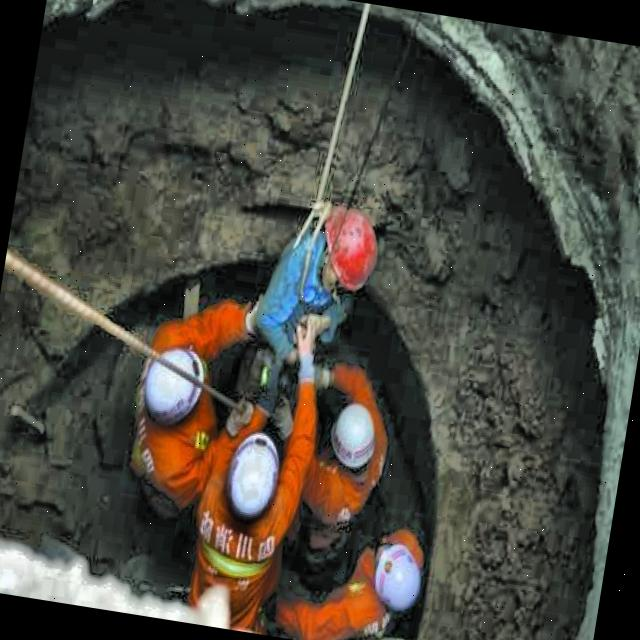helmet: (216, 422, 291, 530), (310, 204, 385, 302), (139, 339, 212, 425), (362, 540, 428, 616), (324, 398, 387, 474)
